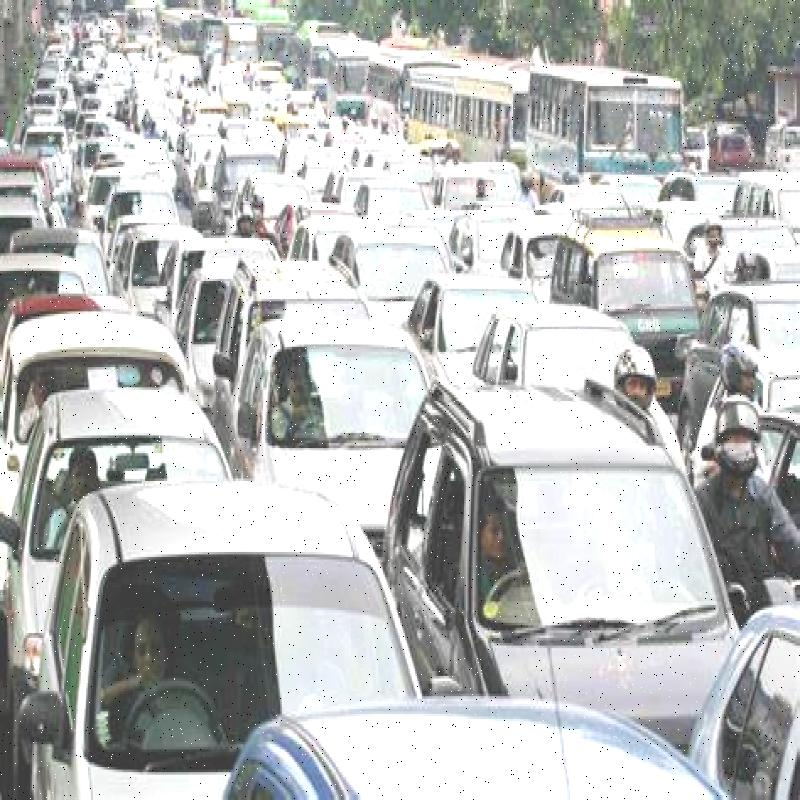car: (373, 369, 745, 746), (19, 458, 428, 800), (227, 324, 457, 560)
